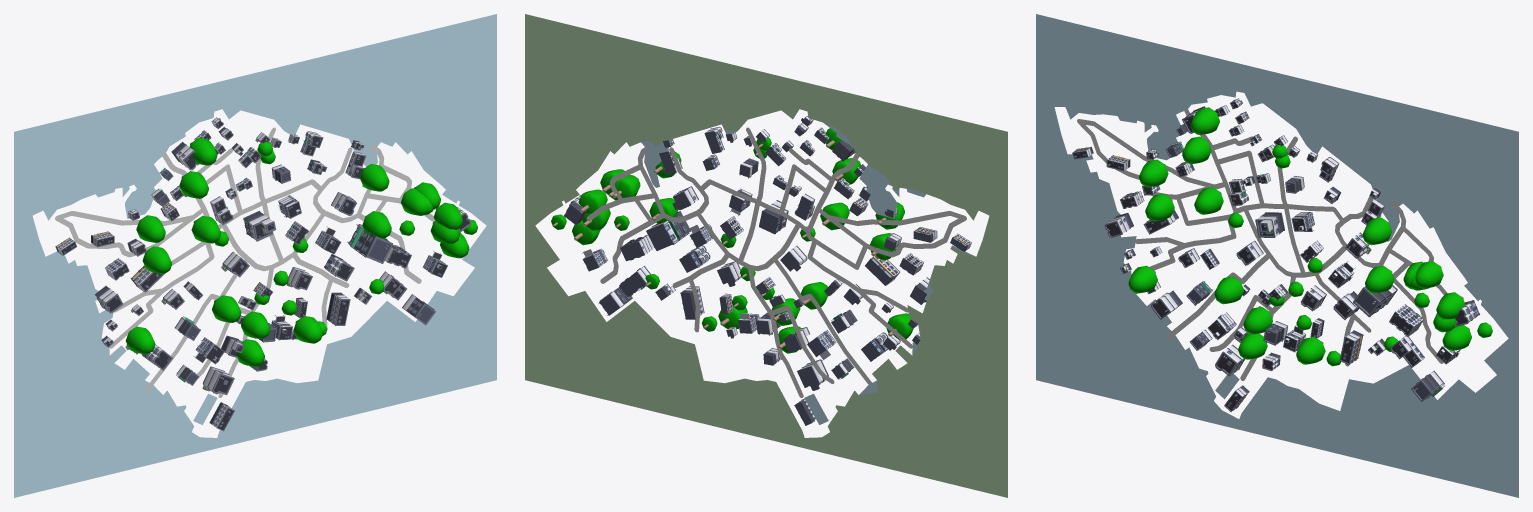
File: lpm.glb
3 views of the same model, side by side, from view 1: azimuth 30°, elevation 25°; view 2: azimuth 150°, elevation 25°; view 3: azimuth 330°, elevation 25° (orthographic).
Visible parts, largest first — view 1: TPX_Waterways_2, TPX_Buildings, TPX_RoadsOutlines, TPX_Trees_crown_1 (×14); view 2: TPX_GreenAreas, TPX_Buildings, TPX_RoadsOutlines, TPX_Waterways_2; view 3: TPX_Waterways_2, TPX_Buildings, TPX_Trees_crown_1 (×15), TPX_RoadsOutlines.
Boxes of the visible parts, x1=… form: TPX_Waterways_2: x1=14, y1=14, x2=496, y2=497; TPX_Buildings: x1=55, y1=117, x2=471, y2=431; TPX_RoadsOutlines: x1=55, y1=127, x2=434, y2=397; TPX_Trees_crown_1 (×14): x1=125, y1=138, x2=462, y2=366; TPX_GreenAreas: x1=525, y1=14, x2=1007, y2=497; TPX_Buildings: x1=564, y1=115, x2=971, y2=425; TPX_RoadsOutlines: x1=586, y1=127, x2=966, y2=397; TPX_Waterways_2: x1=641, y1=123, x2=975, y2=394; TPX_Waterways_2: x1=1036, y1=14, x2=1518, y2=497; TPX_Buildings: x1=1072, y1=98, x2=1479, y2=411; TPX_Trees_crown_1 (×15): x1=1128, y1=107, x2=1471, y2=364; TPX_RoadsOutlines: x1=1077, y1=108, x2=1447, y2=380.
Size of the model in its own units: 207 by 150 by 16.
Materials: 6 (1 with a texture image).
